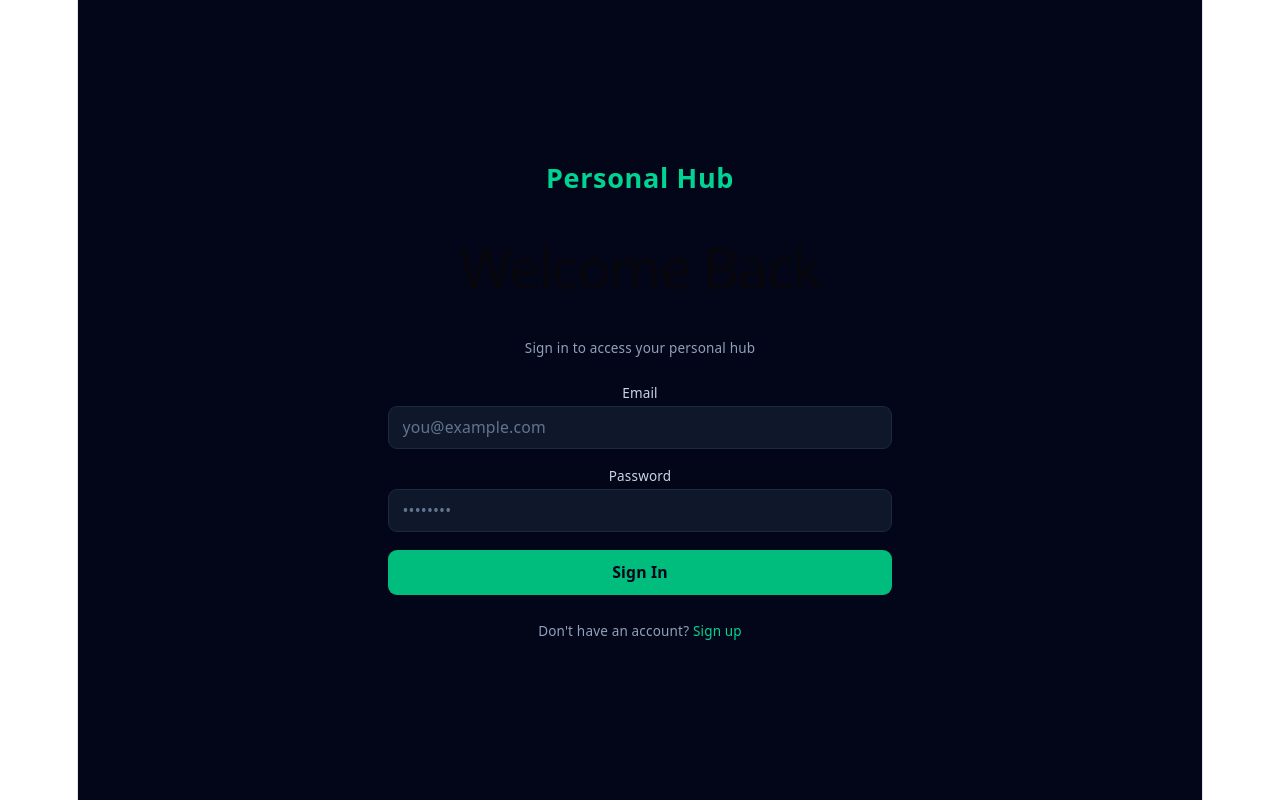
LoginPage component › displays error alert when login credentials are invalid
The width and height of the screenshot is (1280, 800).
Type "user@test.com" into the field labelled "Email" at (640, 427), box x1=388 y1=406 x2=892 y2=449
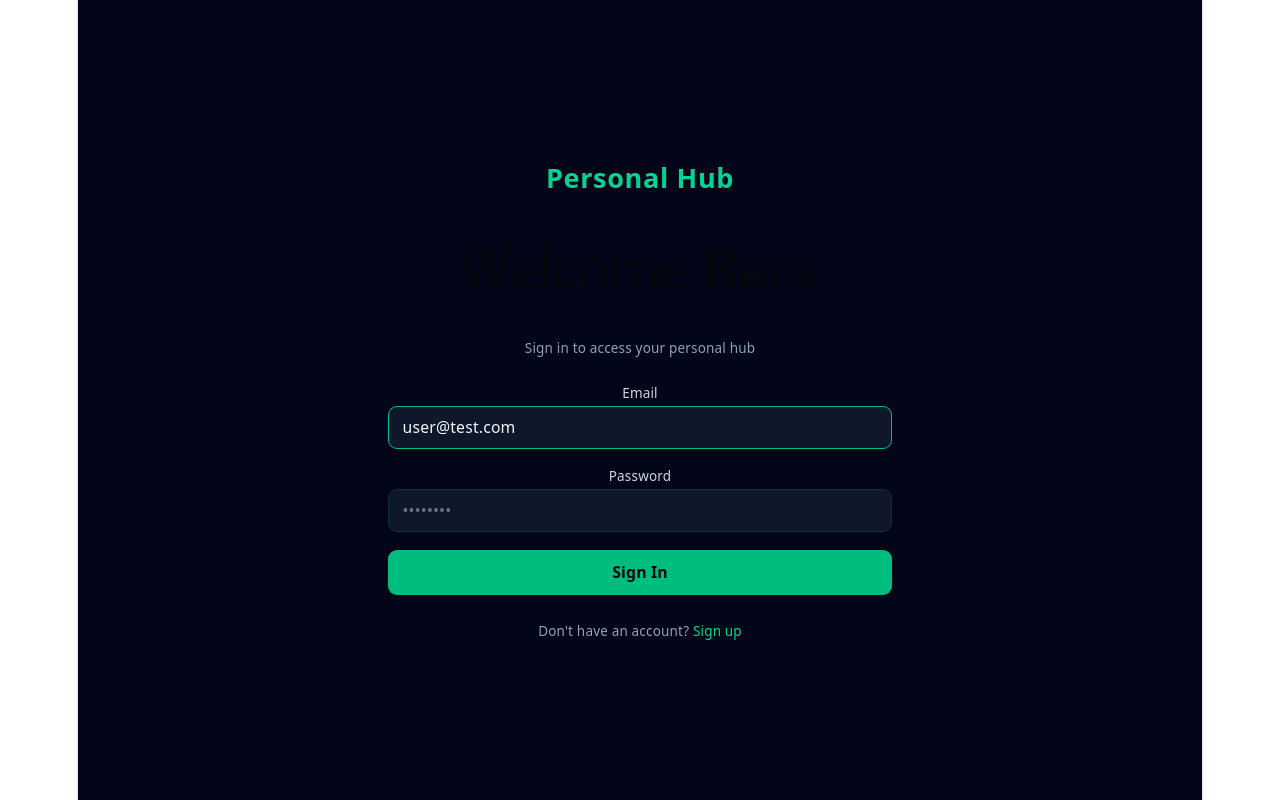
Type "wrongpass" into the password field labelled "Password" at (640, 510), box x1=388 y1=489 x2=892 y2=532
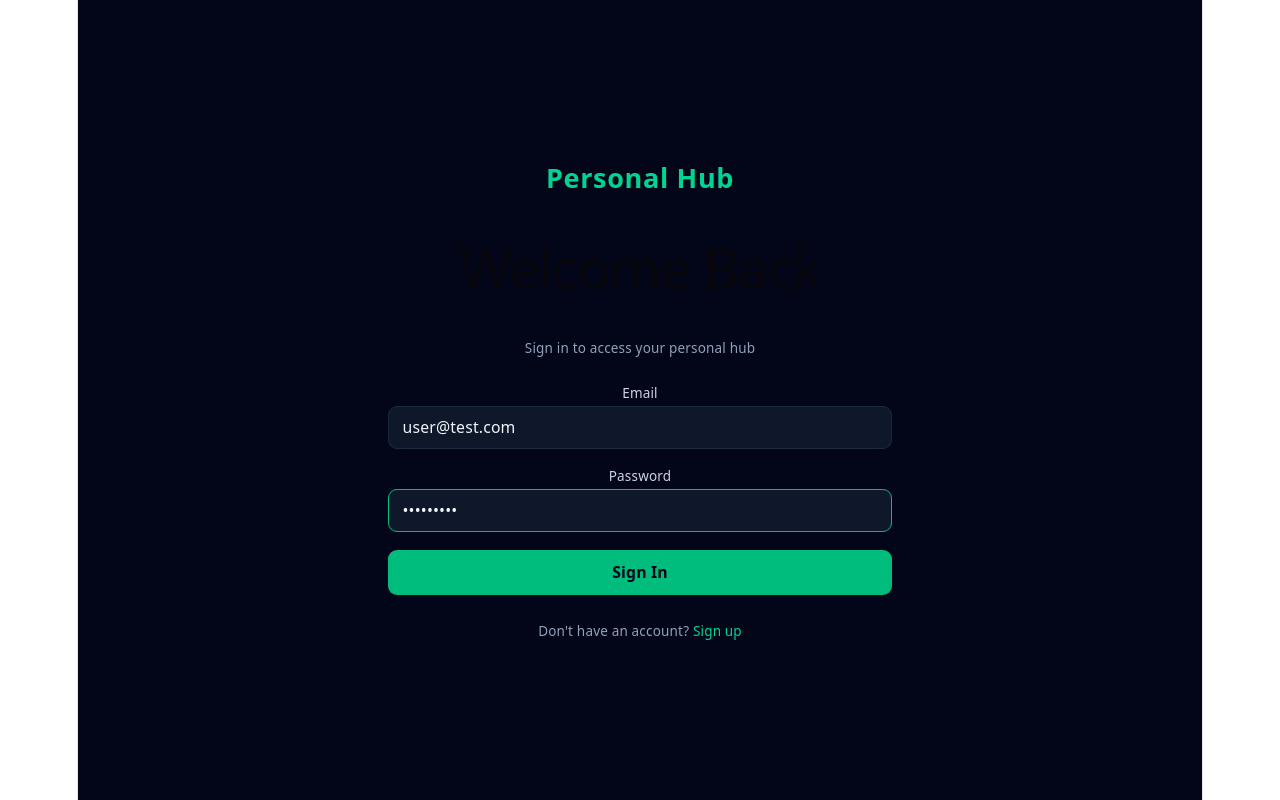
Click the button "Sign In" at (640, 572), box x1=388 y1=550 x2=892 y2=595
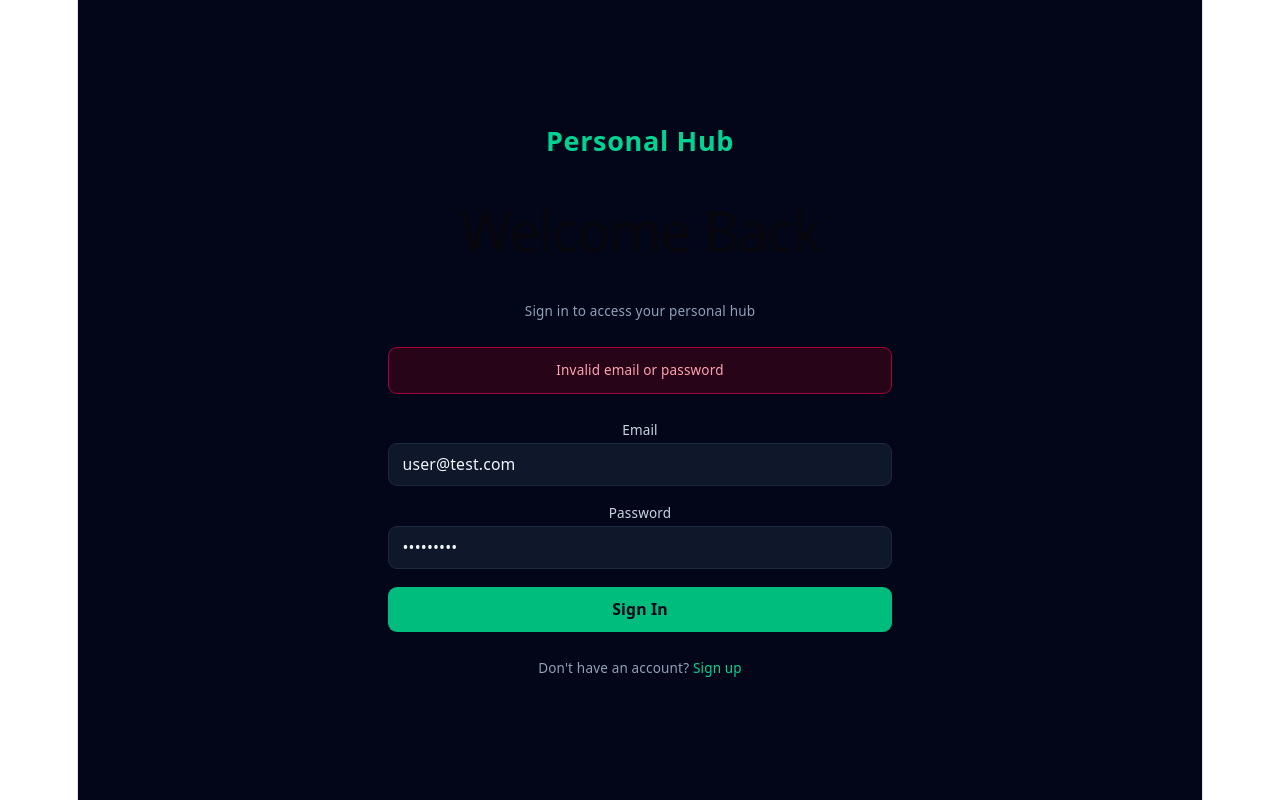
Check: the message "Invalid email or password" is shown, box x1=388 y1=347 x2=892 y2=394
